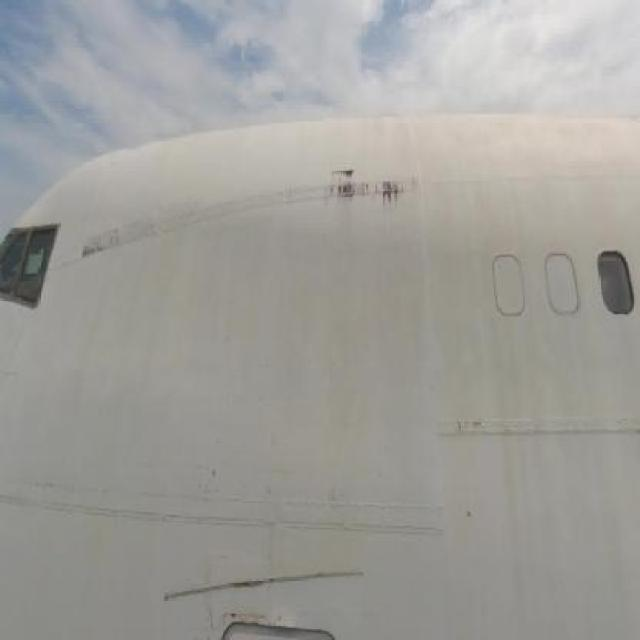Rust: (313, 153, 415, 225)
Scartch: (80, 220, 138, 280), (226, 572, 282, 598)
